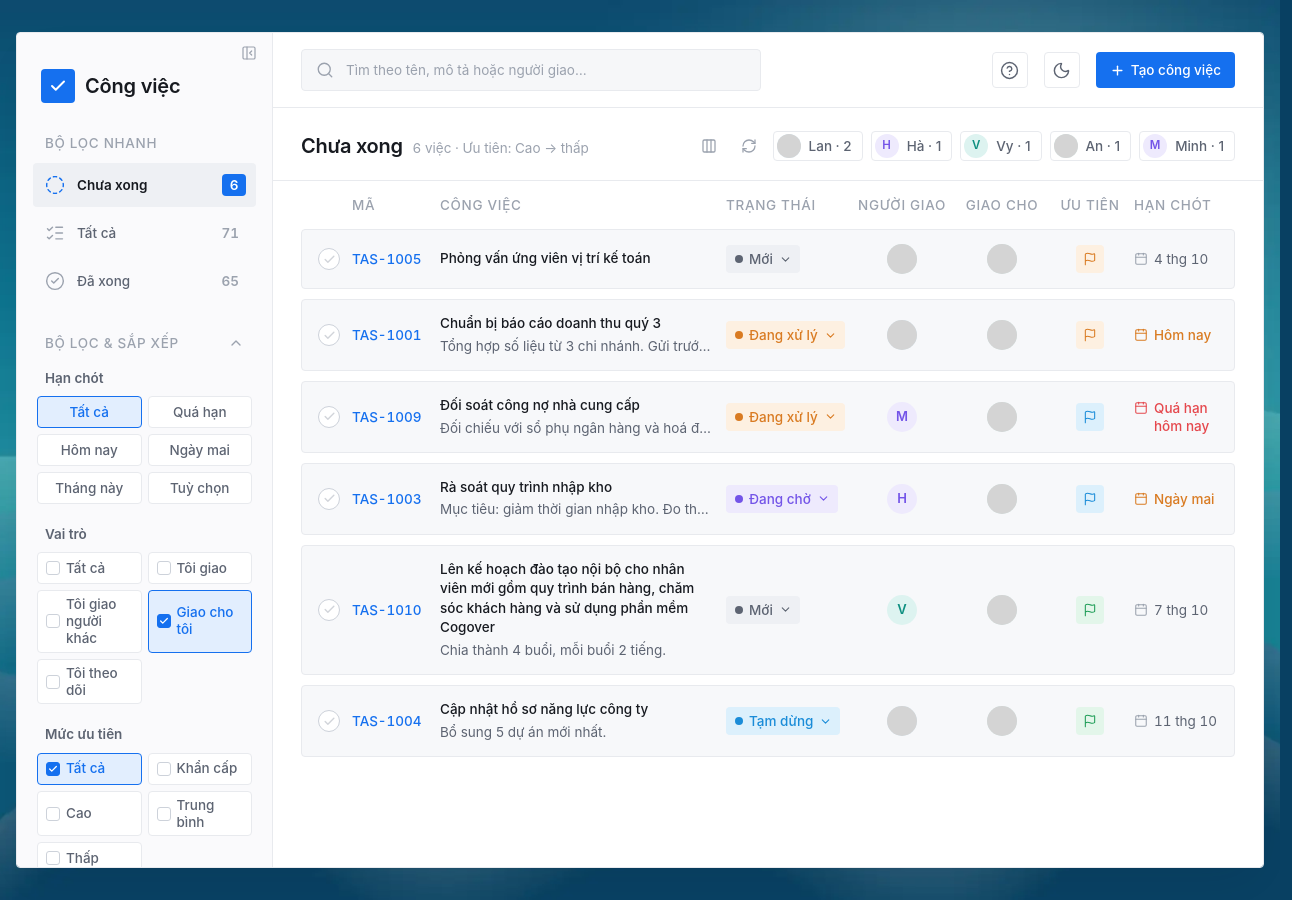
Test case: Vai trò: multi-select roles (AC3, AC5) › unticking the only ticked role goes back to "Tất cả" (every role), as in "Mức ưu tiên"
Click the checkbox with test id "role-filter-assignee": {"x": 200, "y": 621} [148,590,252,653]
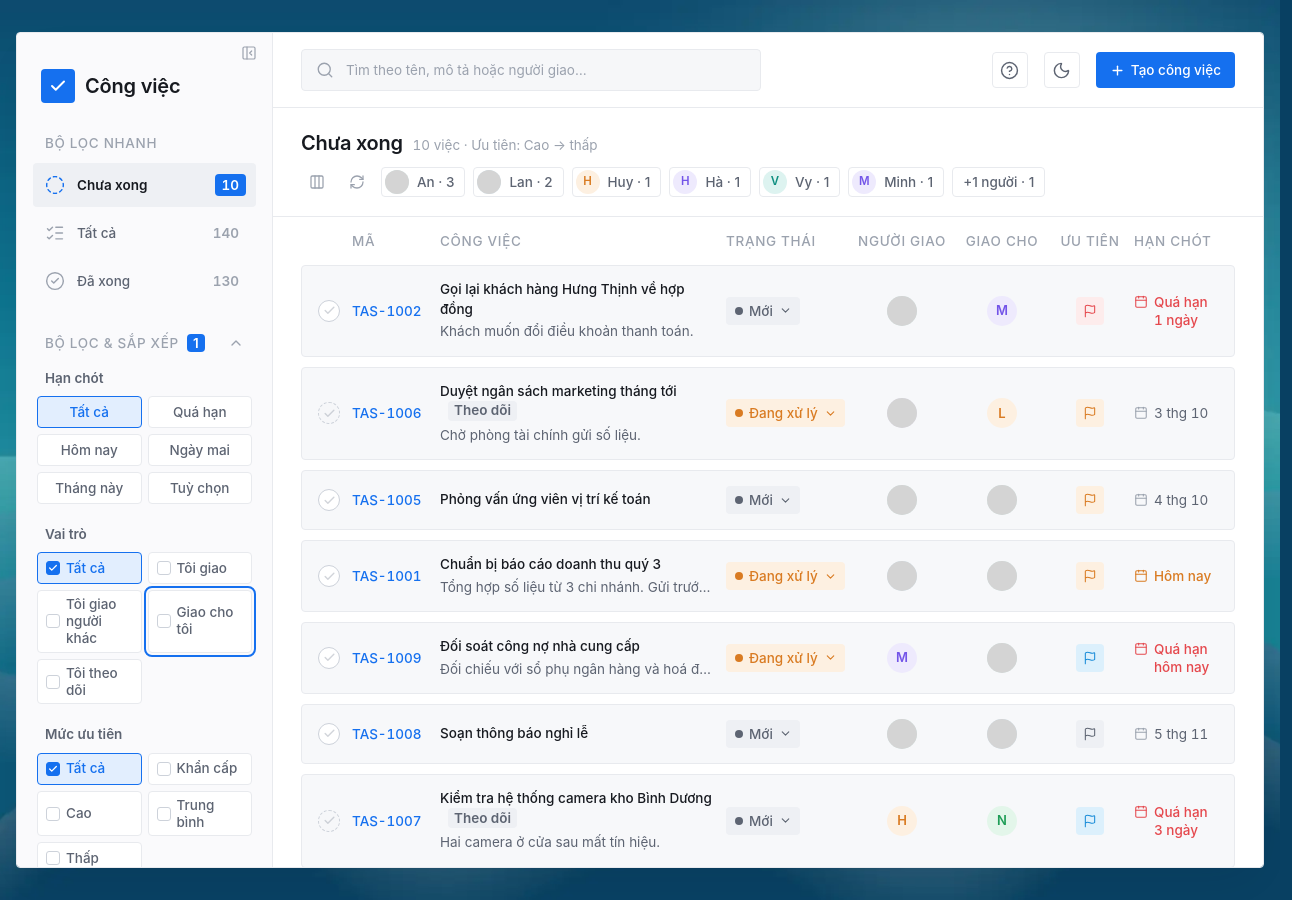
Expected: the checkbox with test id "role-filter-assignee" is not checked, [148,590,252,653]
Expected: the checkbox with test id "role-filter-all" is checked, [37,552,142,584]
Expected: the text named "1 tuỳ chọn đang bật" is shown, [187,334,205,352]
// from "Tất cả", a role keeps only itself
Click the checkbox with test id "role-filter-reporter": {"x": 200, "y": 568} [148,552,252,584]
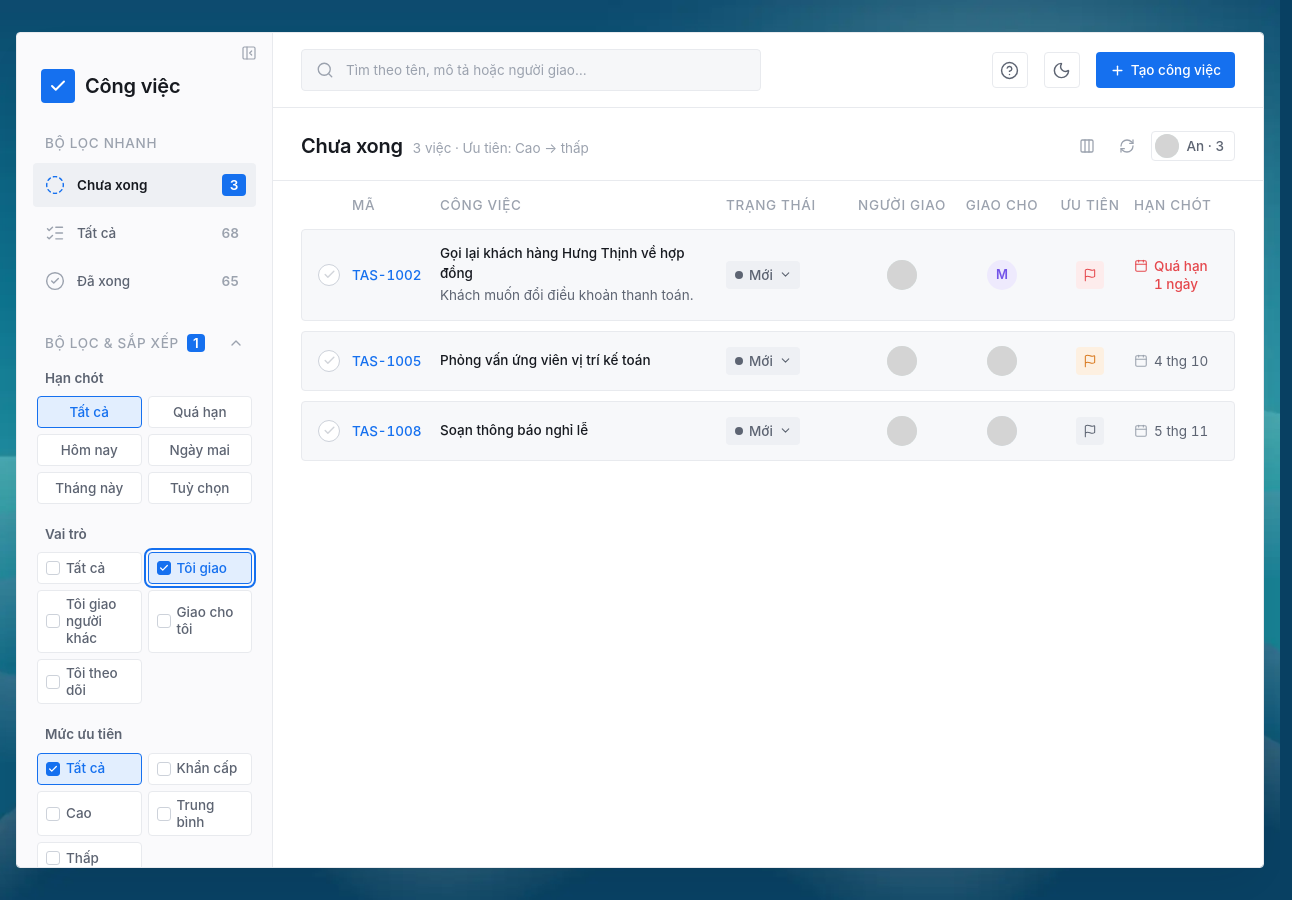
Expected: the checkbox with test id "role-filter-all" is not checked, [37,552,142,584]
